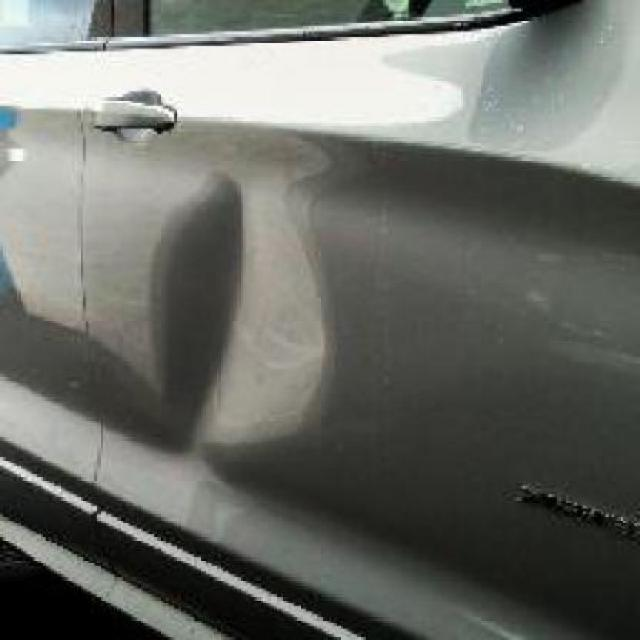dent-or-scratch: (160, 163, 342, 462)
